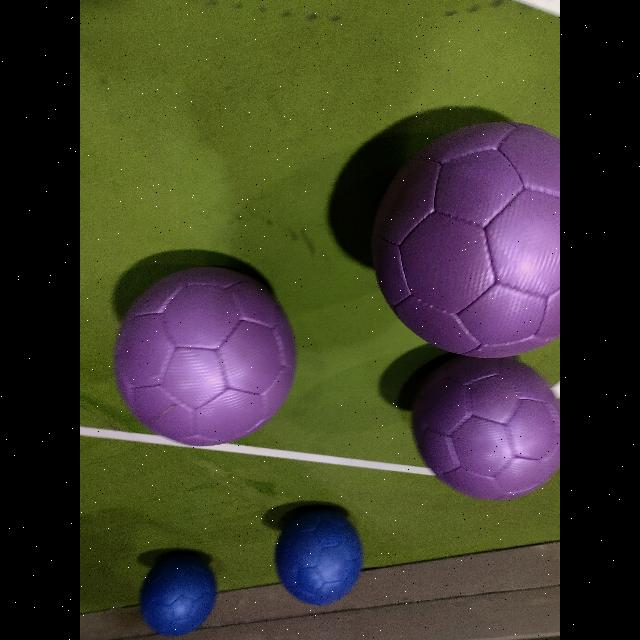B: (276, 509, 362, 605), (140, 552, 217, 636)
P: (372, 123, 560, 357), (114, 268, 296, 447), (412, 358, 560, 500)
